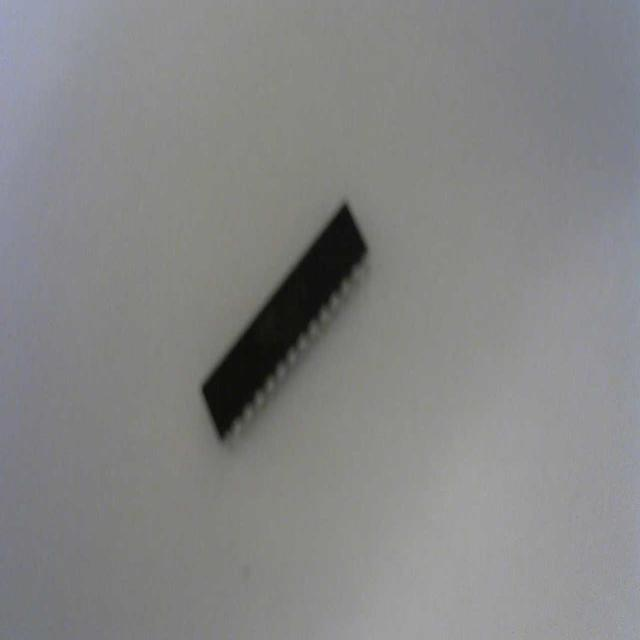atmega: (198, 195, 370, 446)
